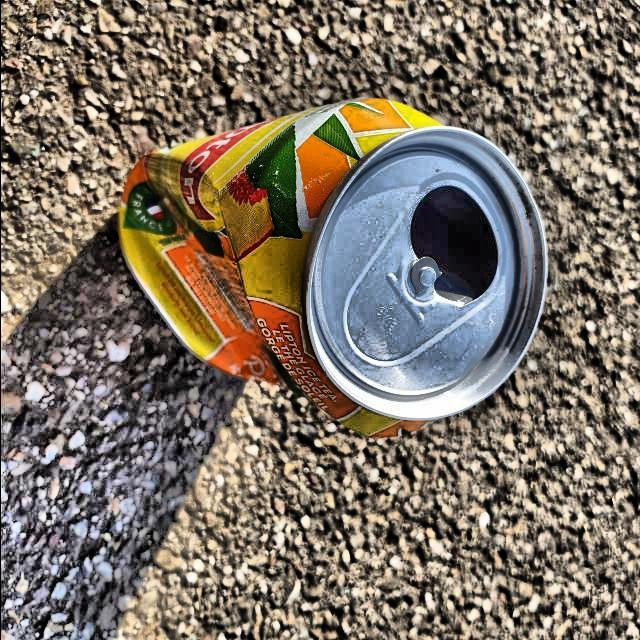metal: (117, 97, 551, 442)
